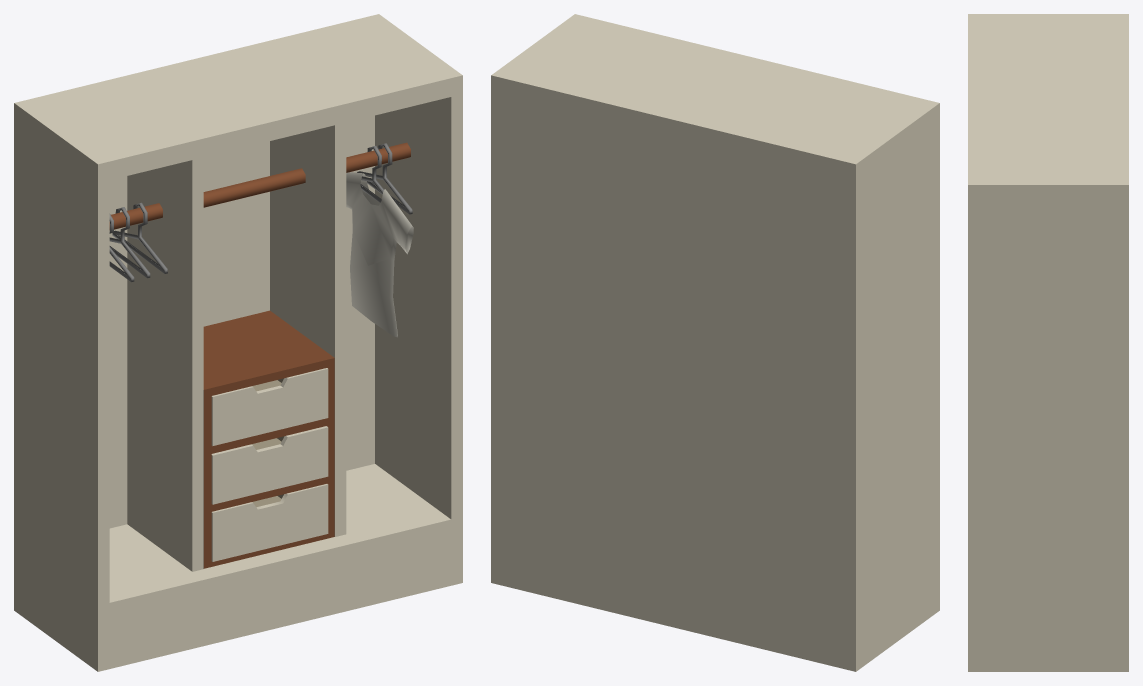
The model's file is 14_furniture_Closet.FBX.
3 renders of one model, left to right at view 1: azimuth 30°, elevation 25°; view 2: azimuth 150°, elevation 25°; view 3: azimuth 270°, elevation 25°, orthographic. The views are drawn at different scales.
Visible parts, largest first — view 1: furniture_closet, drawer, a hanger 1, drawer2, drawer3, drawer1, a hanger 3; view 2: furniture_closet; view 3: furniture_closet.
Boxes of the visible parts, left/top/right/bottom form: furniture_closet: left=14, top=14, right=462, bottom=671; drawer: left=203, top=310, right=334, bottom=568; a hanger 1: left=346, top=146, right=413, bottom=337; drawer2: left=211, top=426, right=328, bottom=504; drawer3: left=211, top=484, right=328, bottom=561; drawer1: left=211, top=368, right=328, bottom=445; a hanger 3: left=109, top=202, right=167, bottom=282; furniture_closet: left=491, top=14, right=939, bottom=671; furniture_closet: left=968, top=14, right=1128, bottom=671.
Bounding box in the file's own units: 108 × 143 × 42.84.
